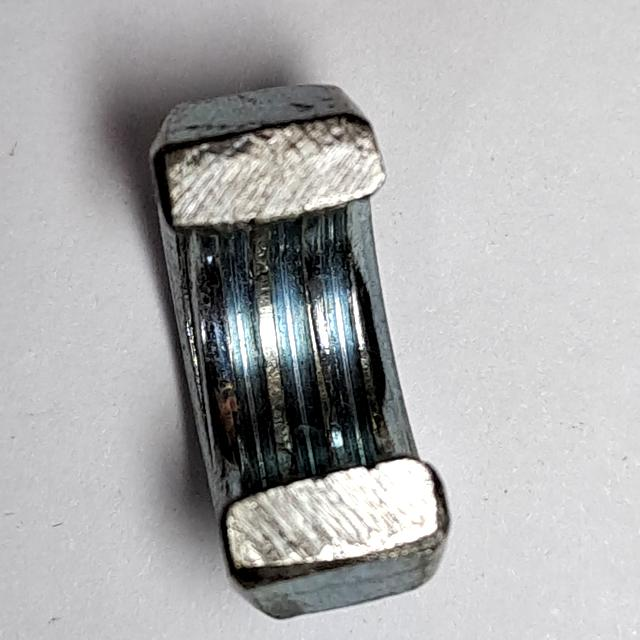Side-Fracture: (128, 74, 471, 637)
